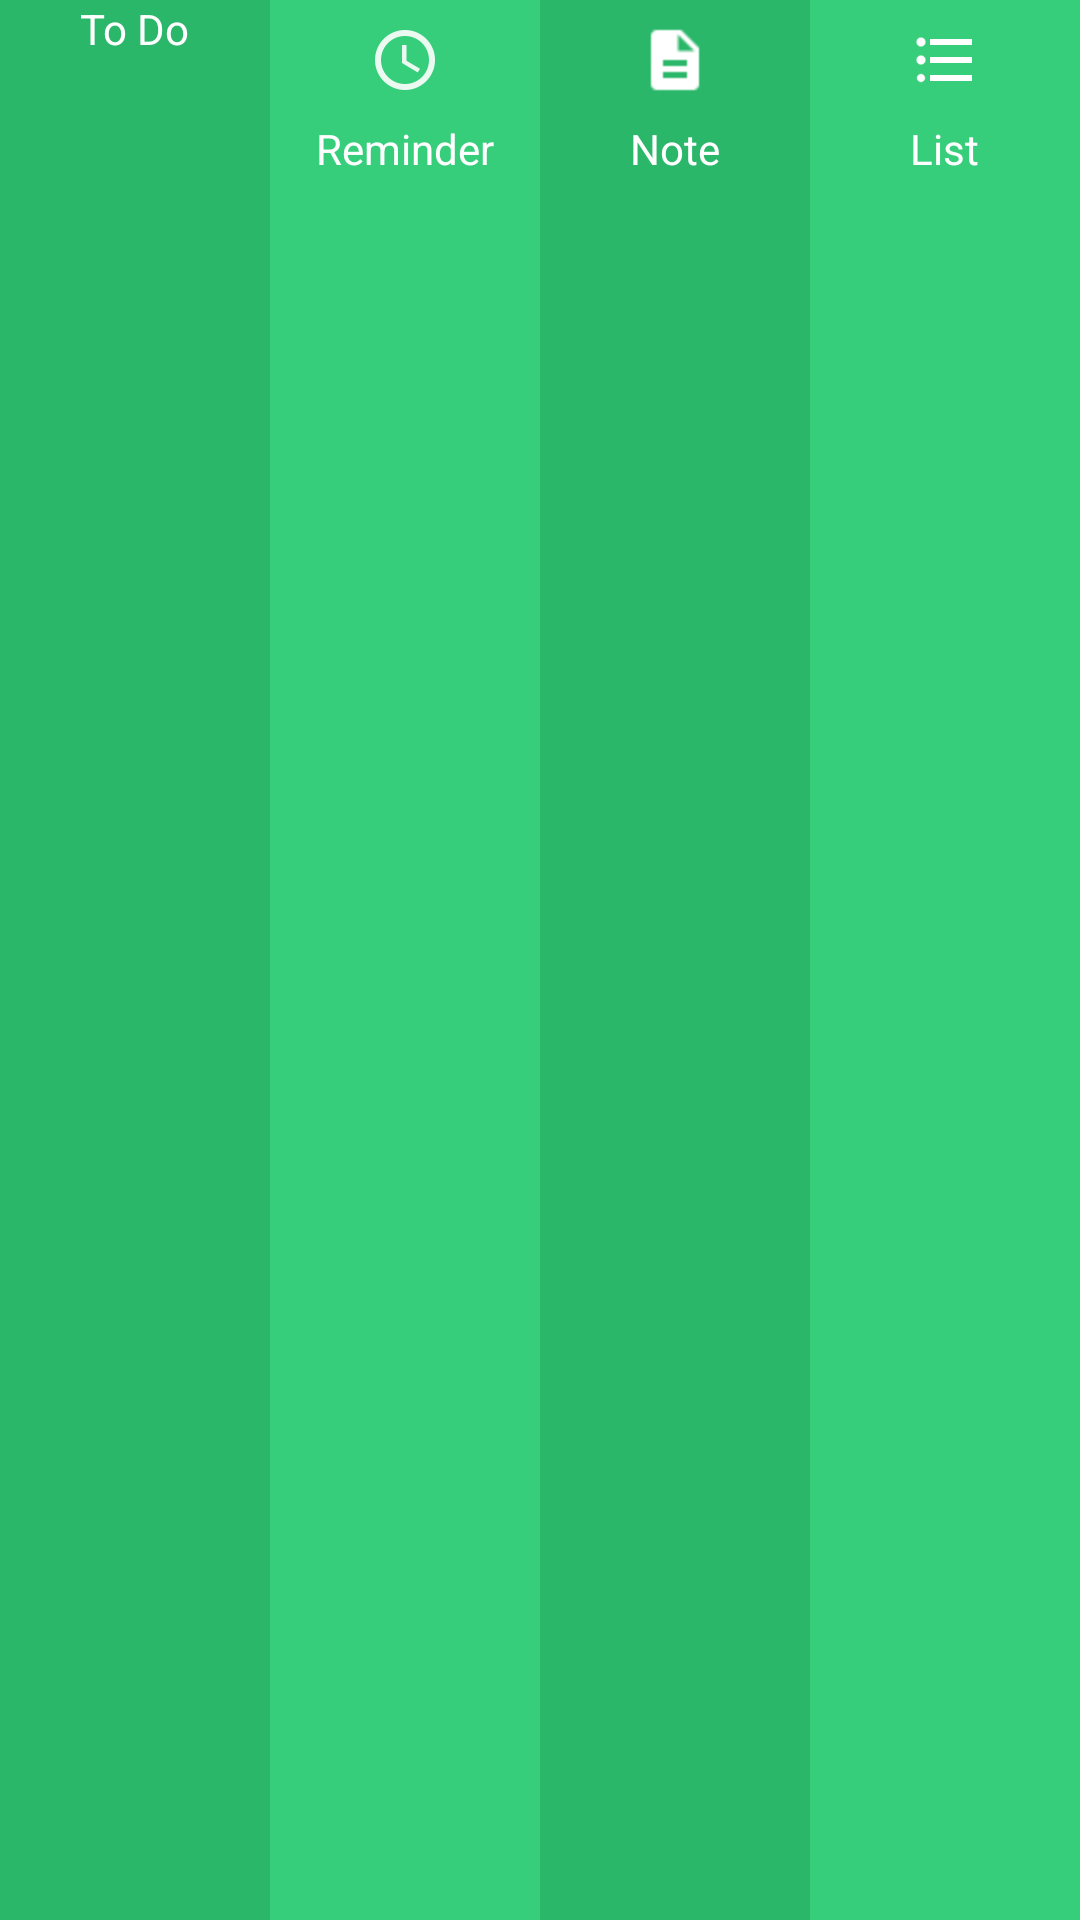

Locate icon controls on the screen. Image size 1080 × 1920, boxes as bbox(x1, y1, x2, y2).
device time: bbox(375, 30, 435, 90)
